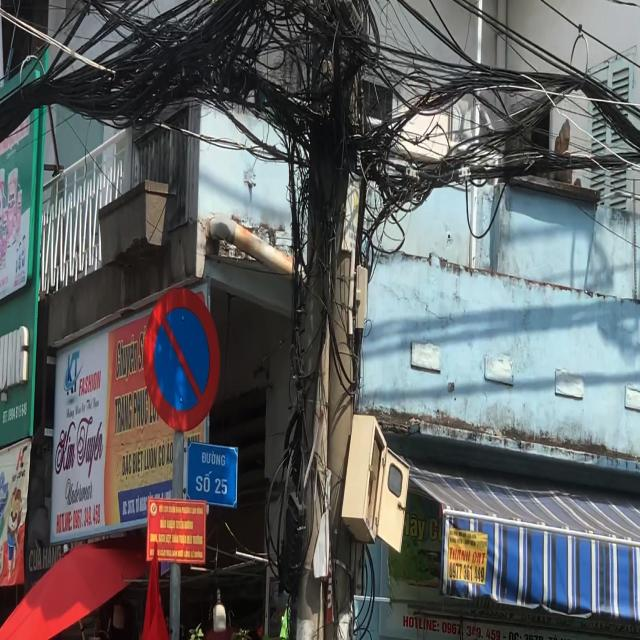Cam do: (142, 284, 220, 438)
